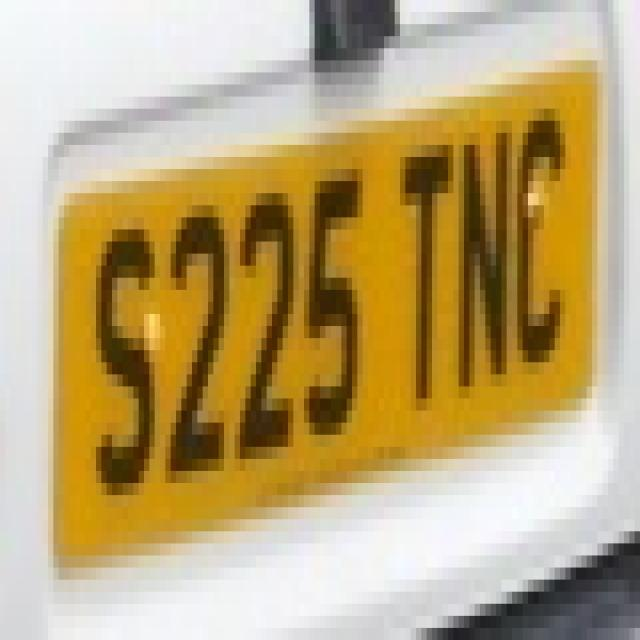licenseplate: (41, 81, 616, 524)
